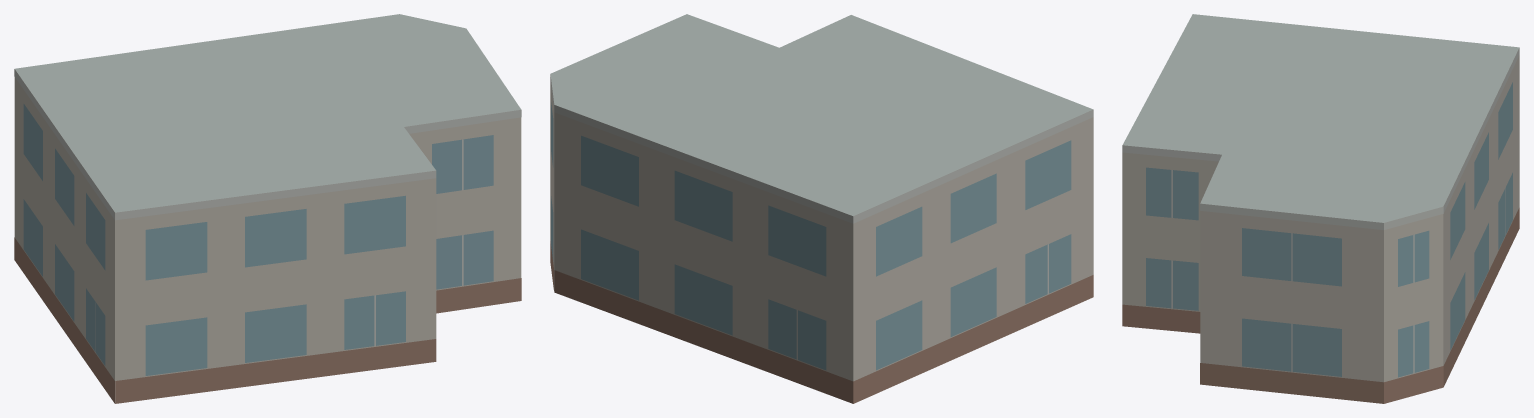
The model's file is survey-upis-32995648.glb.
3 views of the same model, side by side, from view 1: azimuth 30°, elevation 25°; view 2: azimuth 150°, elevation 25°; view 3: azimuth 270°, elevation 25° (orthographic). The views are drawn at different scales.
Parts seen in each view (by area): view 1: survey-upis-32995648.tmp; view 2: survey-upis-32995648.tmp; view 3: survey-upis-32995648.tmp.
Part boxes in pixels (left/top/right/bottom): survey-upis-32995648.tmp: left=14, top=14, right=521, bottom=403; survey-upis-32995648.tmp: left=550, top=14, right=1093, bottom=403; survey-upis-32995648.tmp: left=1122, top=14, right=1519, bottom=403.
Size of the model in its own units: 15.12 by 6.1 by 12.15.
